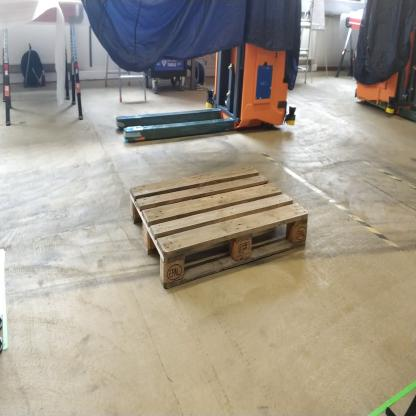BoxFace: (126, 157, 311, 297)
